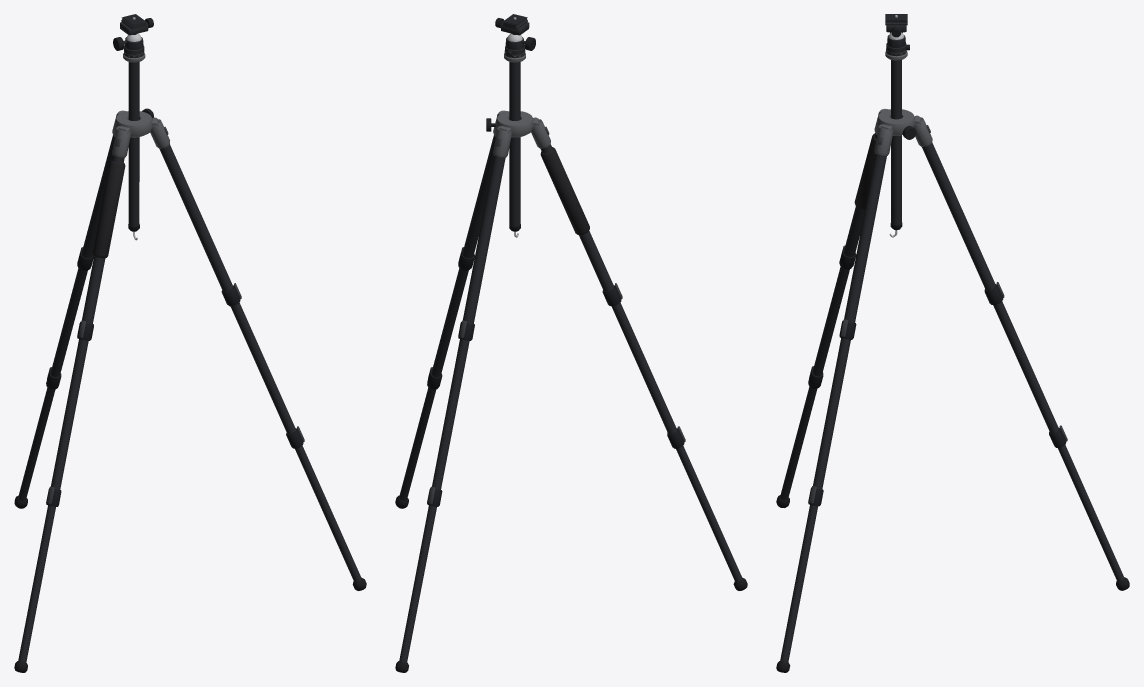
The model's file is photo_tripod.glb.
The picture shows the model from 3 angles, left to right: view 1: azimuth 30°, elevation 25°; view 2: azimuth 150°, elevation 25°; view 3: azimuth 270°, elevation 25°; orthographic projection.
Visible parts, largest first — view 1: Ball head body, Apex casting, Leg warmer, Centre column; view 2: Ball head body, Apex casting, Leg warmer, Centre column; view 3: Ball head body, Apex casting, Centre column, Leg warmer.
Part boxes in pixels (x1,y1,x2,y2): Ball head body: (18, 14, 361, 662); Apex casting: (112, 53, 169, 157); Leg warmer: (92, 160, 125, 258); Centre column: (46, 224, 303, 506); Ball head body: (399, 14, 742, 662); Apex casting: (493, 53, 550, 157); Leg warmer: (540, 147, 589, 235); Centre column: (427, 123, 684, 506); Ball head body: (780, 14, 1124, 662); Apex casting: (874, 51, 932, 155); Centre column: (808, 222, 1066, 506); Leg warmer: (854, 133, 876, 209).
Size of the model in its own units: 0.9122 by 1.42 by 0.794.
11 materials, 11 textured.
